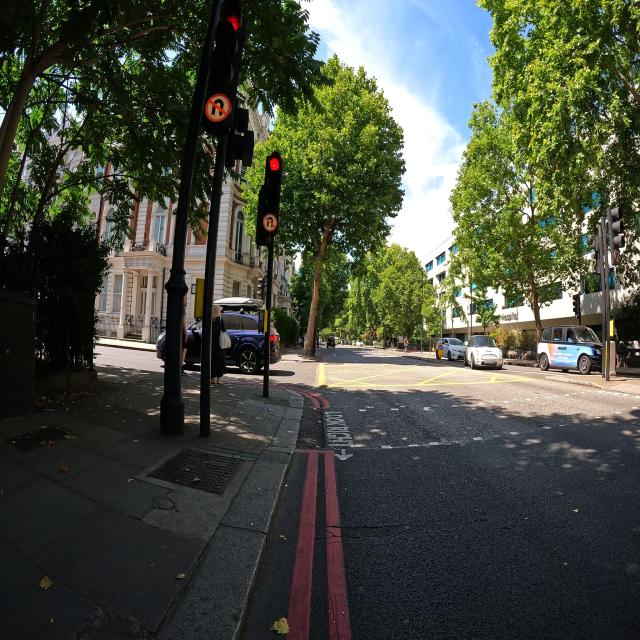car: (156, 297, 281, 375), (536, 324, 607, 375), (464, 334, 504, 370), (436, 337, 466, 361), (326, 334, 336, 348)
